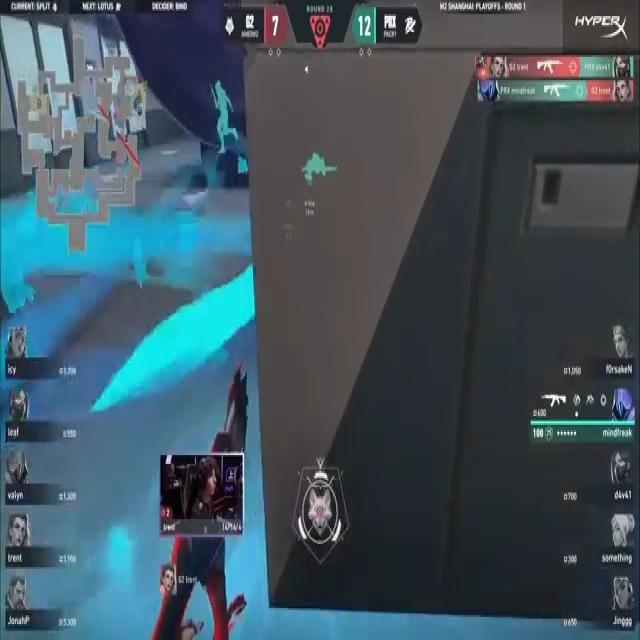ally behind wall: (207, 72, 241, 158)
